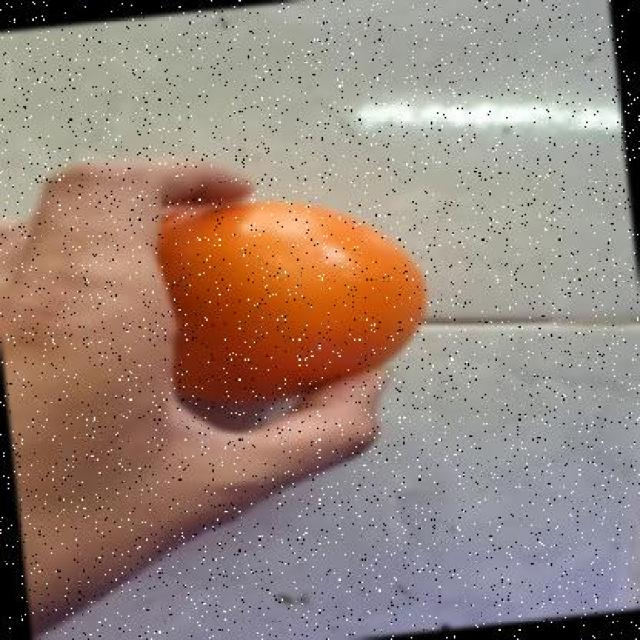Orange: (155, 197, 428, 418)
